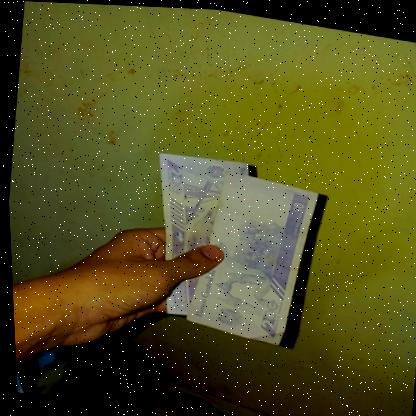ten-back-vef: (174, 162, 323, 349)
two_hundred-back-vef: (137, 144, 254, 325)
